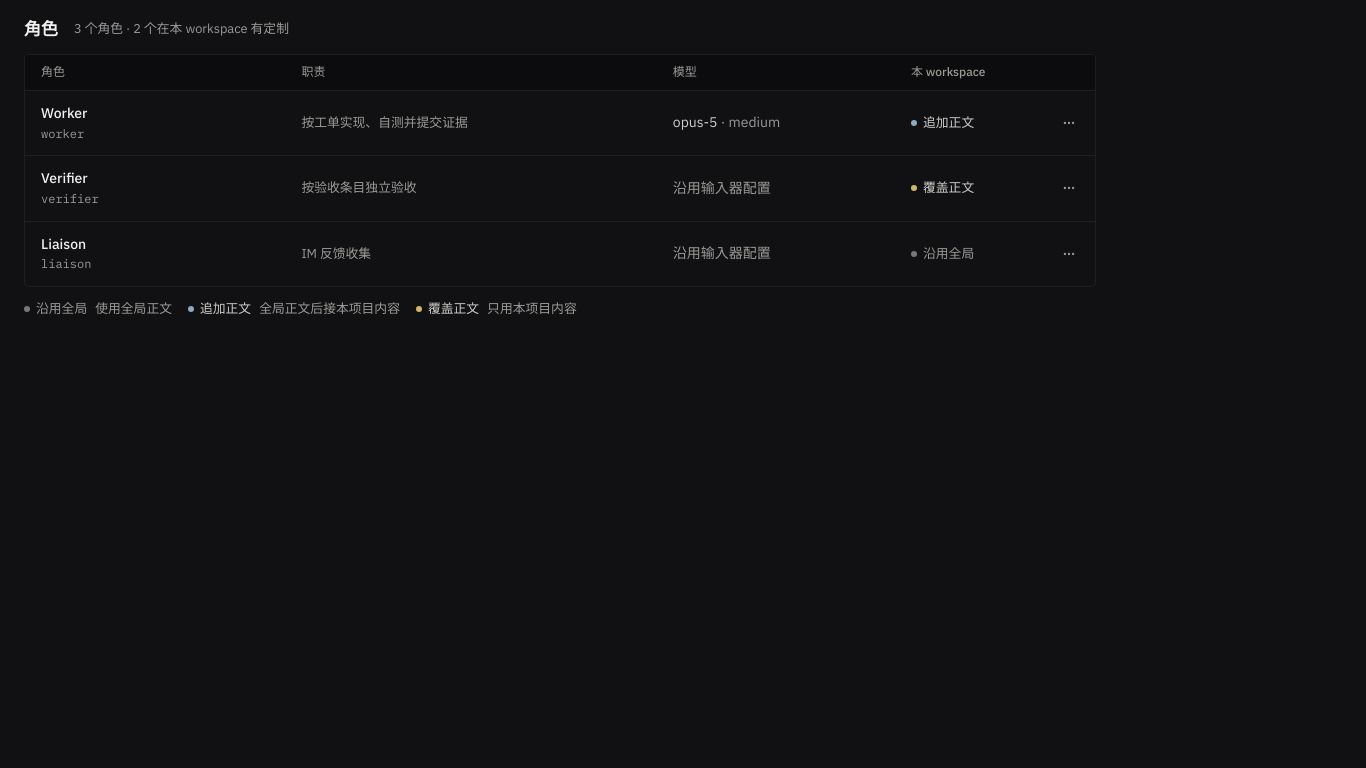
Test: role list presentation › shows mode names, opens the editor on row click and resets a customized role from its menu
Expected: the text "3 个角色 · 2 个在本 workspace 有定制" is shown, [74,20,289,38]
Expected: the text "追加正文" below "模型" is shown, [923,114,974,131]
Click the button with aria-label "编辑角色：Worker" at [64, 113], box [25,91,1047,155]
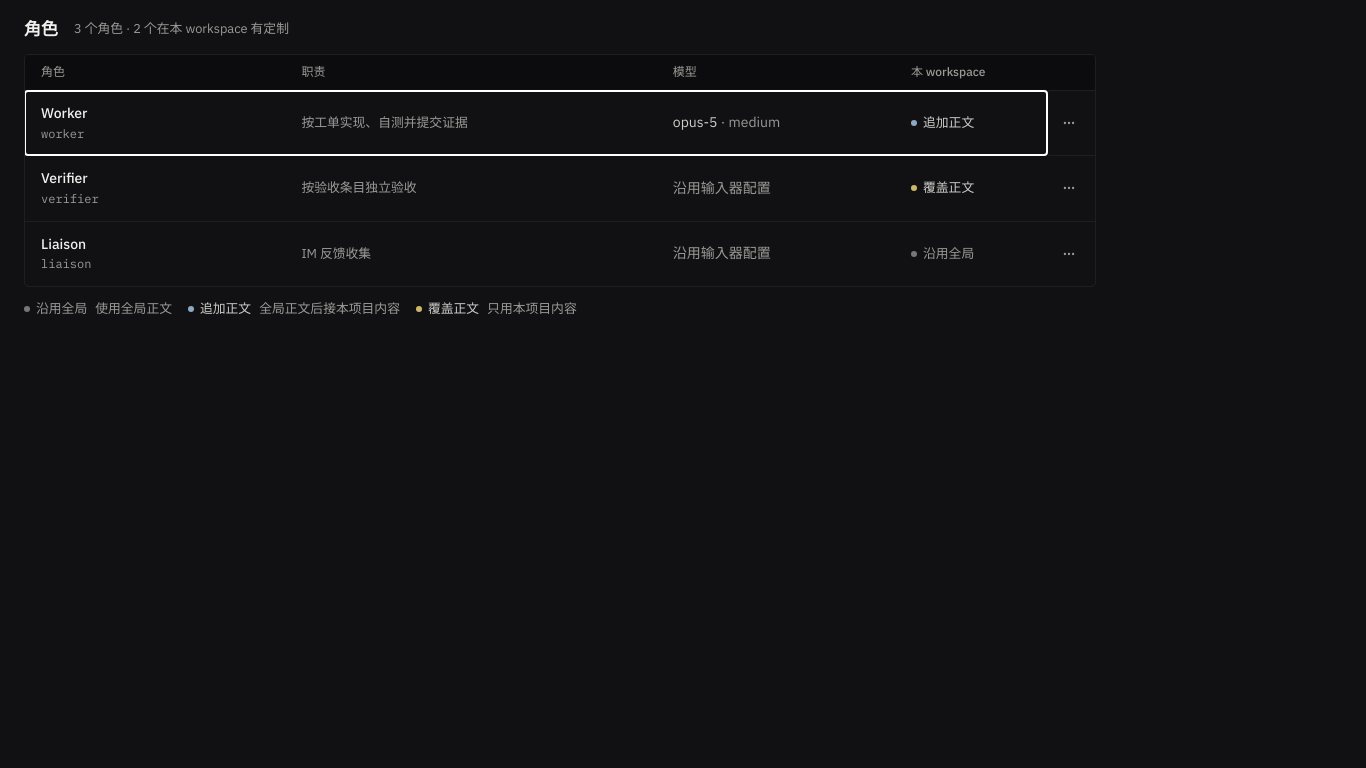
Click the button named "更多操作：Worker" at [1069, 123], box [1055,109,1083,137]
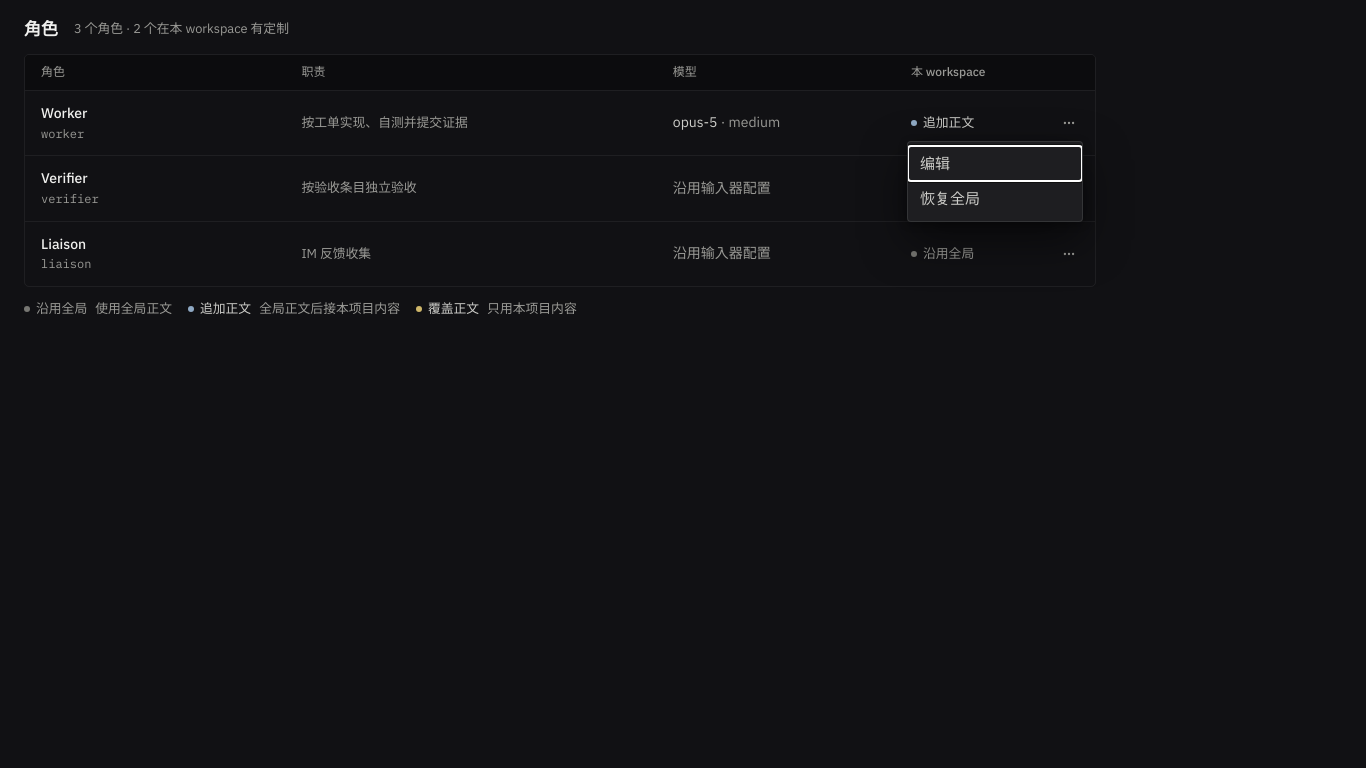
Click the menu item "恢复全局" at [995, 199], box [908,181,1082,217]
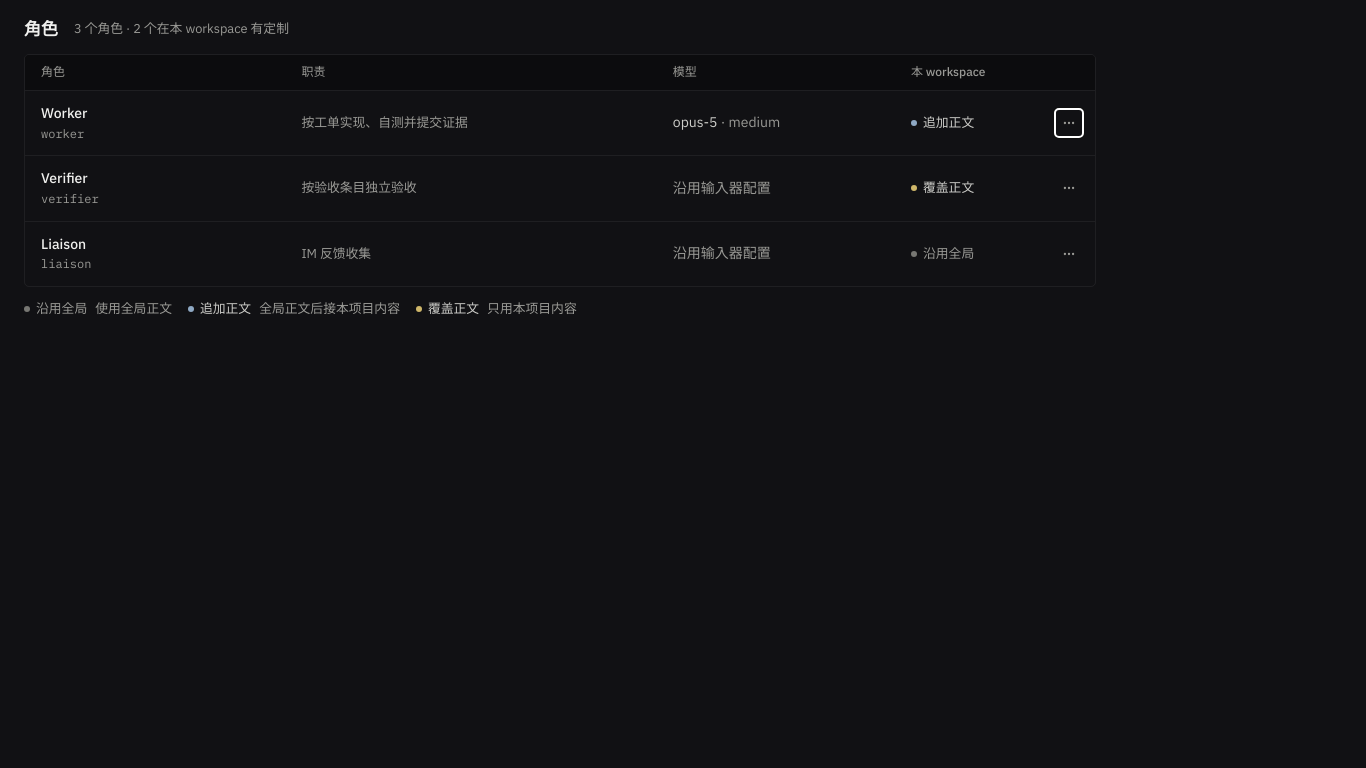
Click the button named "更多操作：Liaison" at [1069, 254], box [1055,240,1083,268]
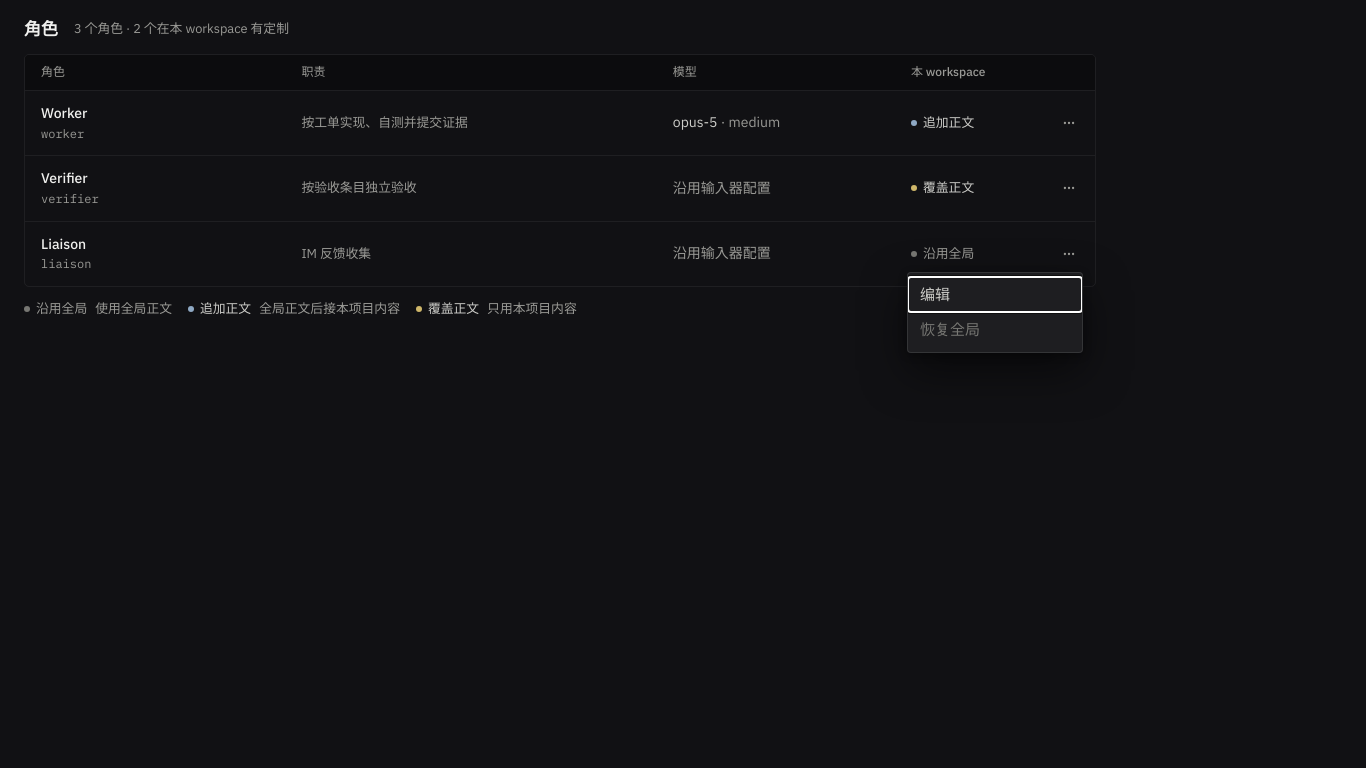
Expected: the menu item "恢复全局" is disabled, [908,312,1082,348]
